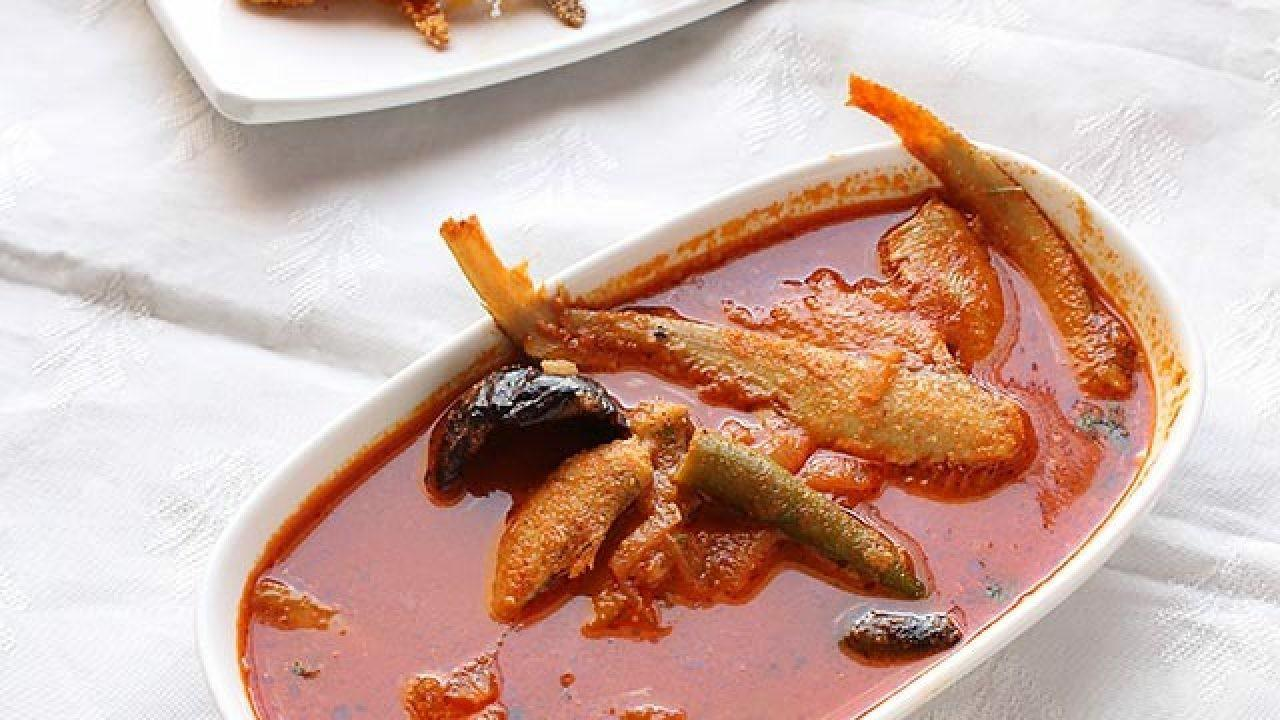FishCurry: (241, 72, 1157, 720)
